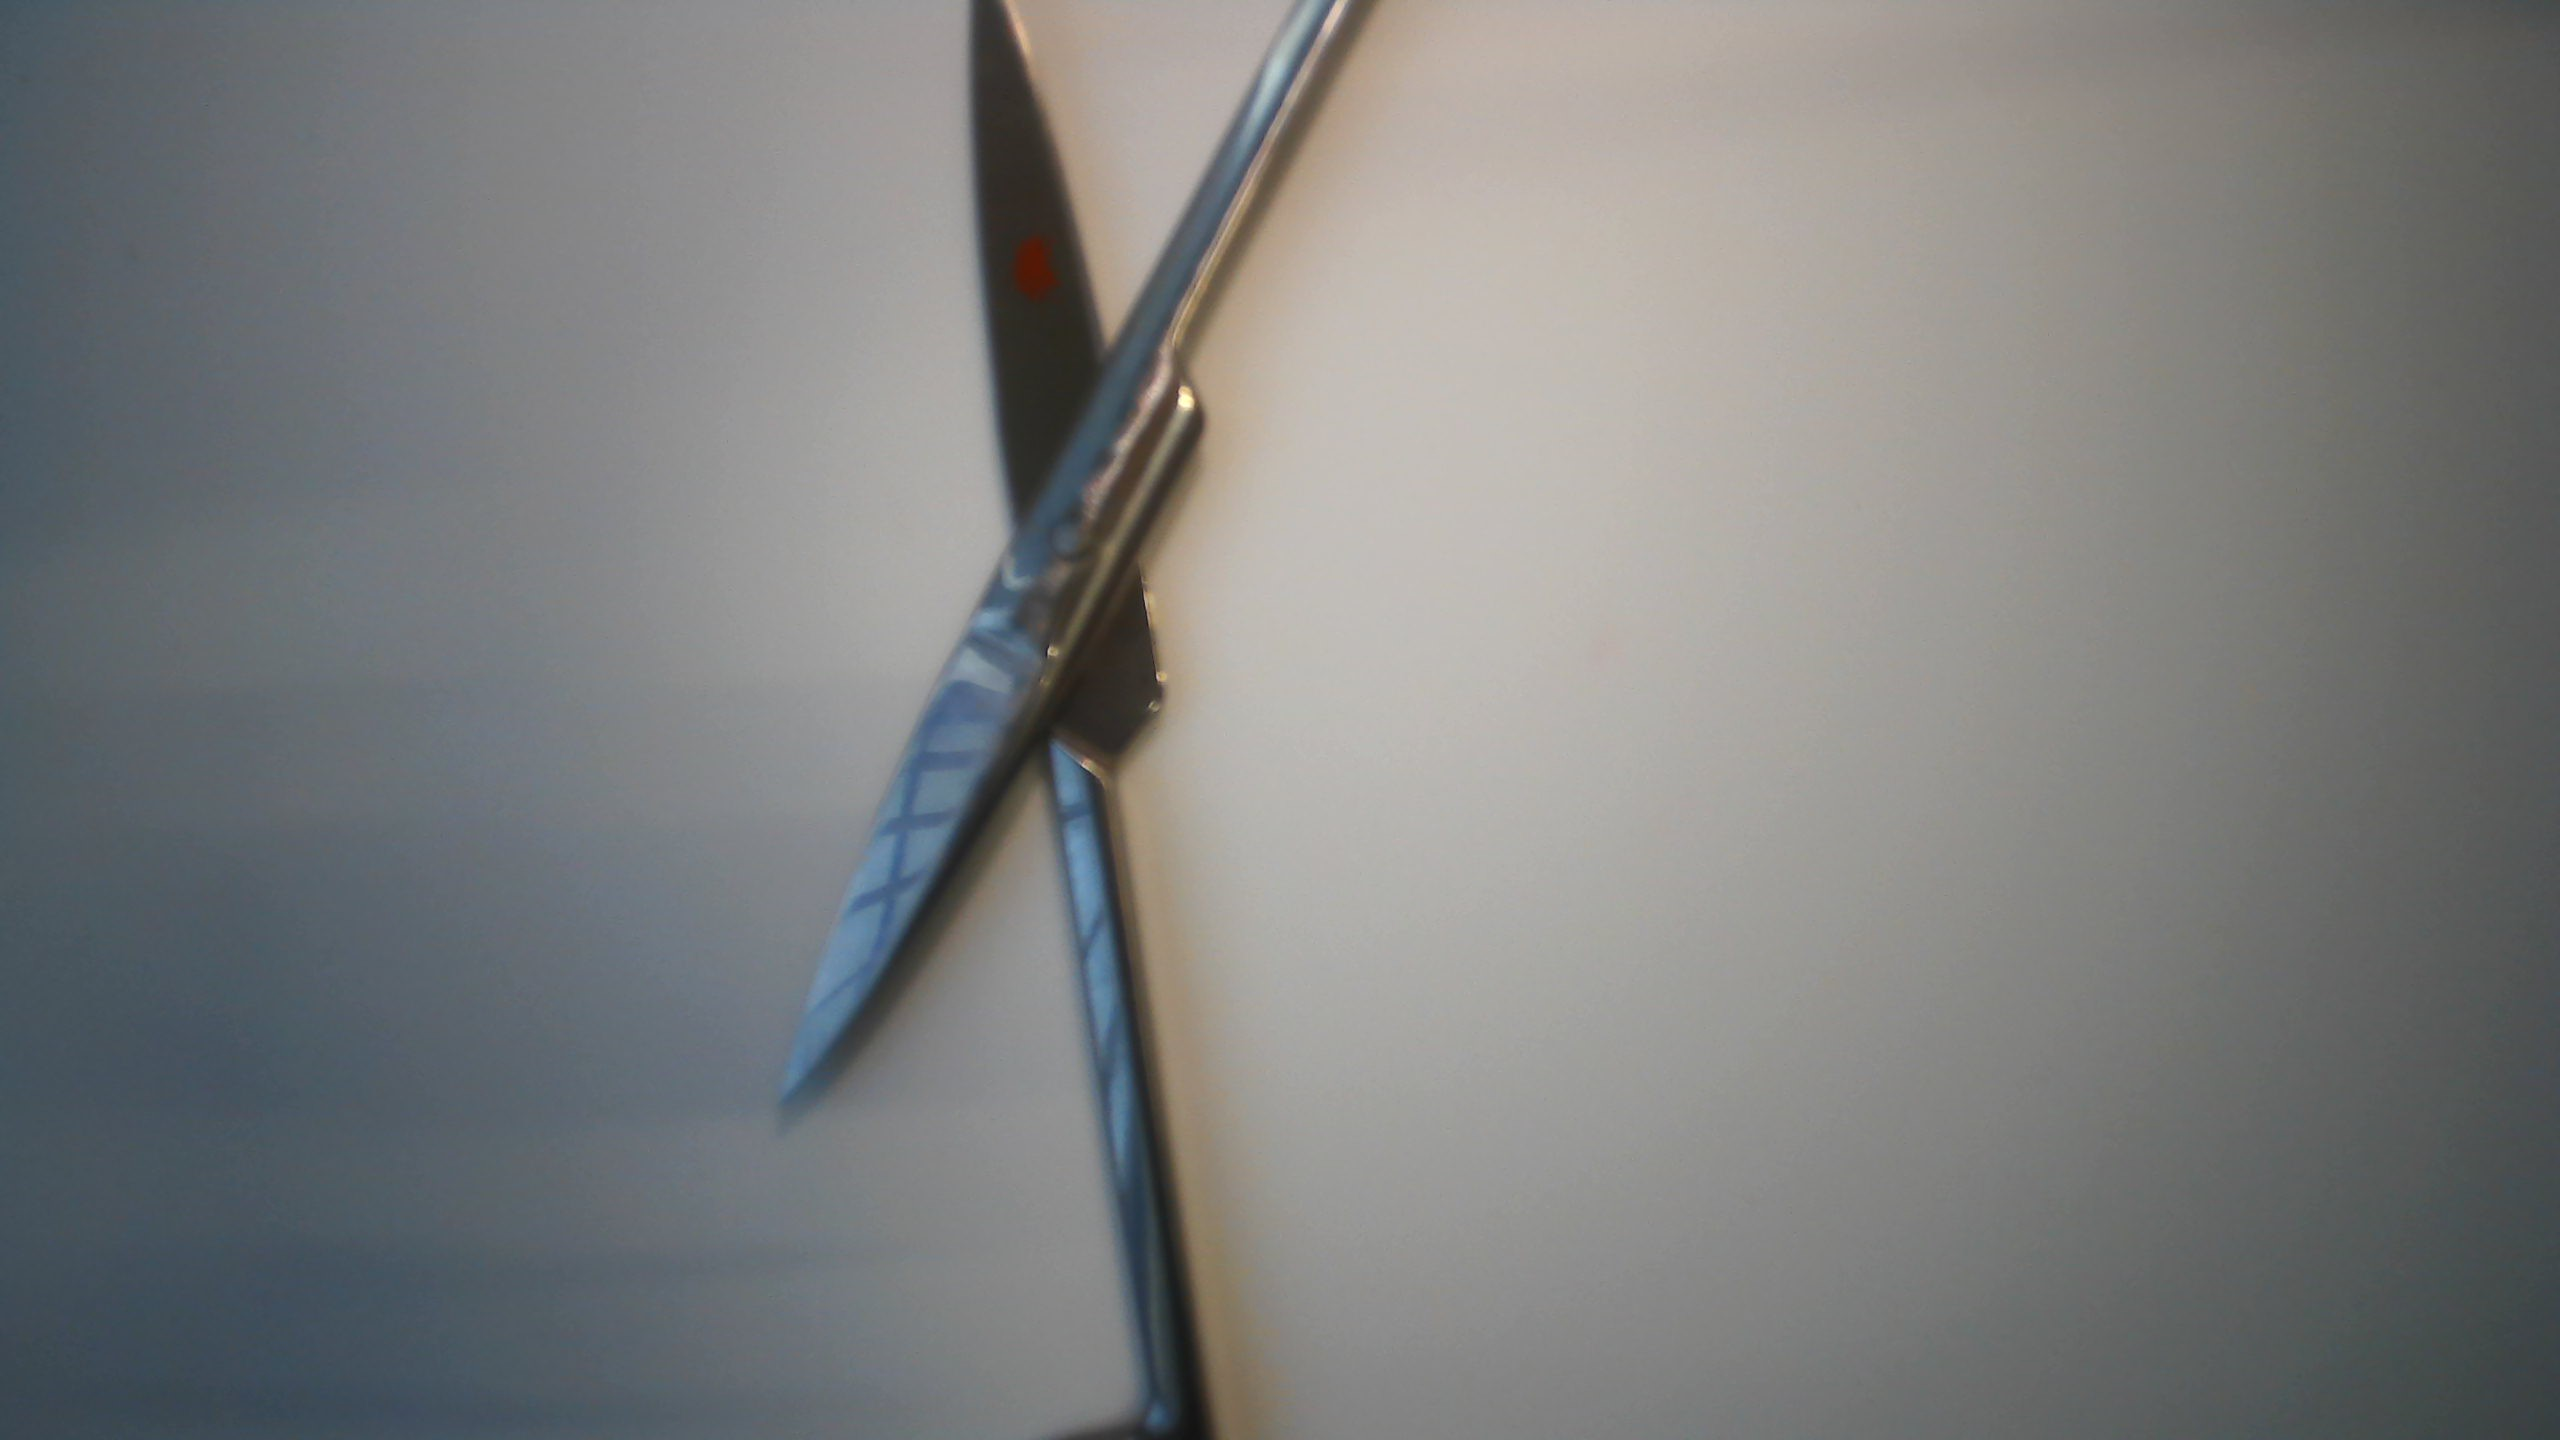Stain: (1007, 222, 1064, 308)
